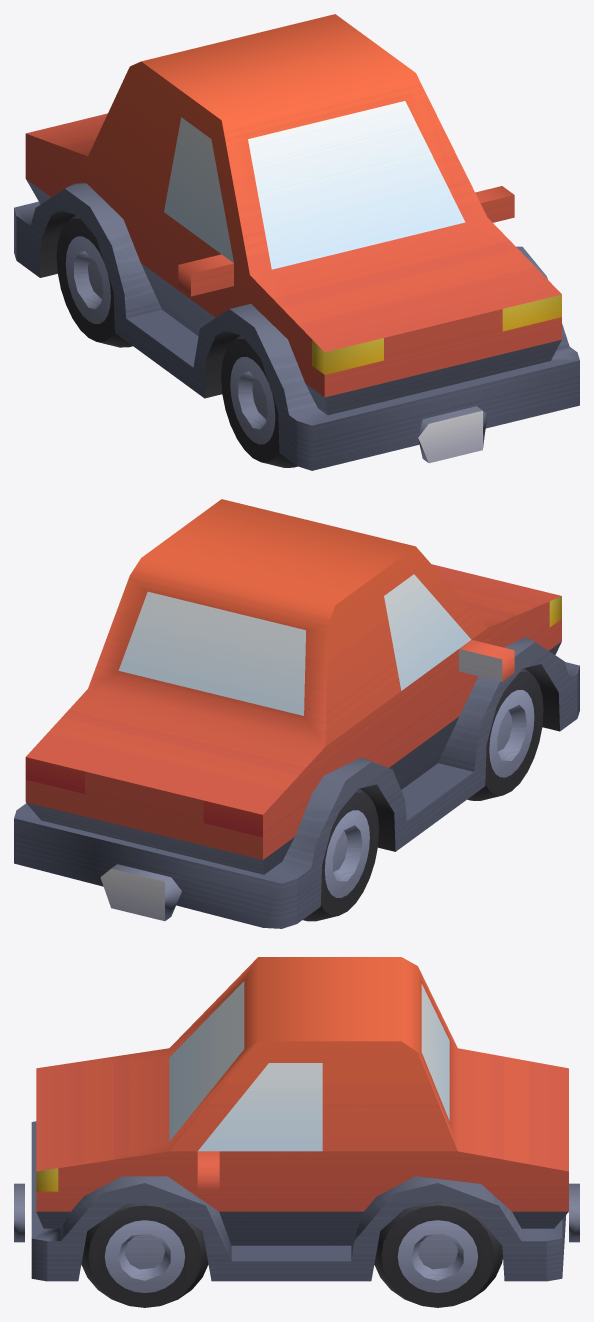
Rendered from sedan.lod1.glb.
The picture shows the model from 3 angles, top to bottom: view 1: azimuth 30°, elevation 25°; view 2: azimuth 150°, elevation 25°; view 3: azimuth 270°, elevation 25°; orthographic projection. The views are drawn at different scales.
Parts seen in each view (by area): view 1: body, wheel-back-right, wheel-front-right; view 2: body, wheel-back-right, wheel-front-right; view 3: body, wheel-back-left, wheel-front-left.
Boxes of the visible parts, <box> form: body: <box>14,14,579,470</box>; wheel-back-right: <box>56,214,132,347</box>; wheel-front-right: <box>221,335,297,467</box>; body: <box>14,499,579,928</box>; wheel-back-right: <box>303,788,378,921</box>; wheel-front-right: <box>467,668,543,800</box>; body: <box>14,957,579,1281</box>; wheel-back-left: <box>374,1201,502,1307</box>; wheel-front-left: <box>81,1203,208,1307</box>.
Bounding box in the file's own units: 1.5 × 1.3 × 2.55.
Materials: 1 (1 with a texture image).
